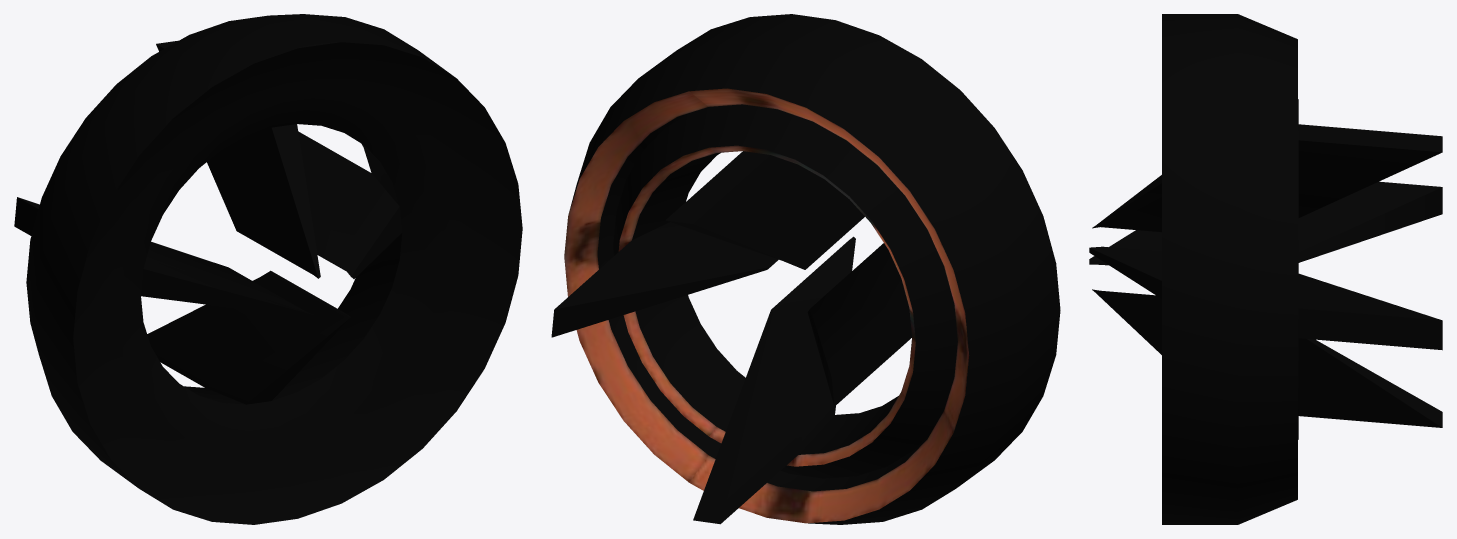
Rendered from unit2.glb.
The picture shows the model from 3 angles, left to right: view 1: azimuth 30°, elevation 25°; view 2: azimuth 150°, elevation 25°; view 3: azimuth 270°, elevation 25°; orthographic projection.
Visible parts, largest first — view 1: Cylinder; view 2: Cylinder; view 3: Cylinder.
Boxes of the visible parts, box(x1,y1,x2,y2) form: Cylinder: box(14, 14, 522, 524); Cylinder: box(551, 14, 1060, 524); Cylinder: box(1089, 14, 1442, 524).
Size of the model in its own units: 5.1 by 5.1 by 3.53.
1 material, 1 textured.
